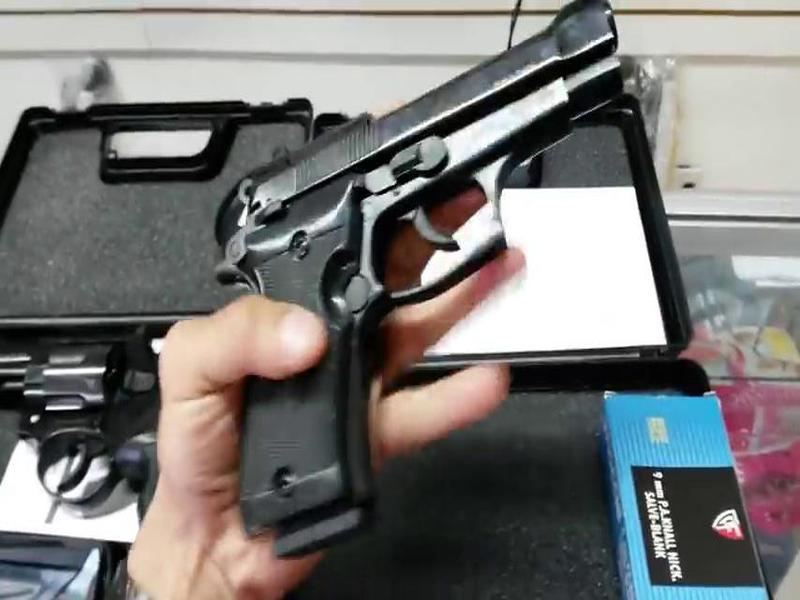Pistola: (210, 3, 637, 536)
